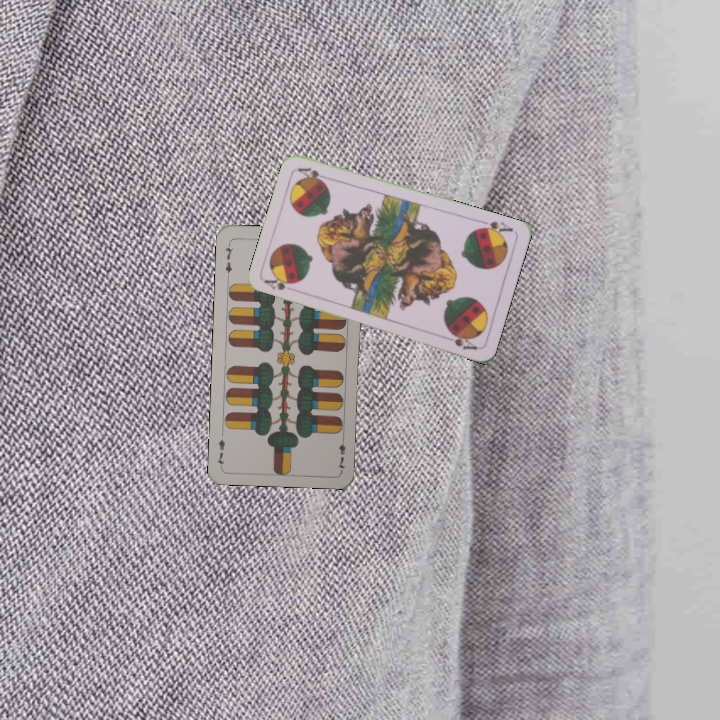E7: (221, 239, 236, 280), (334, 432, 348, 473)
SA: (474, 216, 516, 239), (261, 275, 300, 295)
